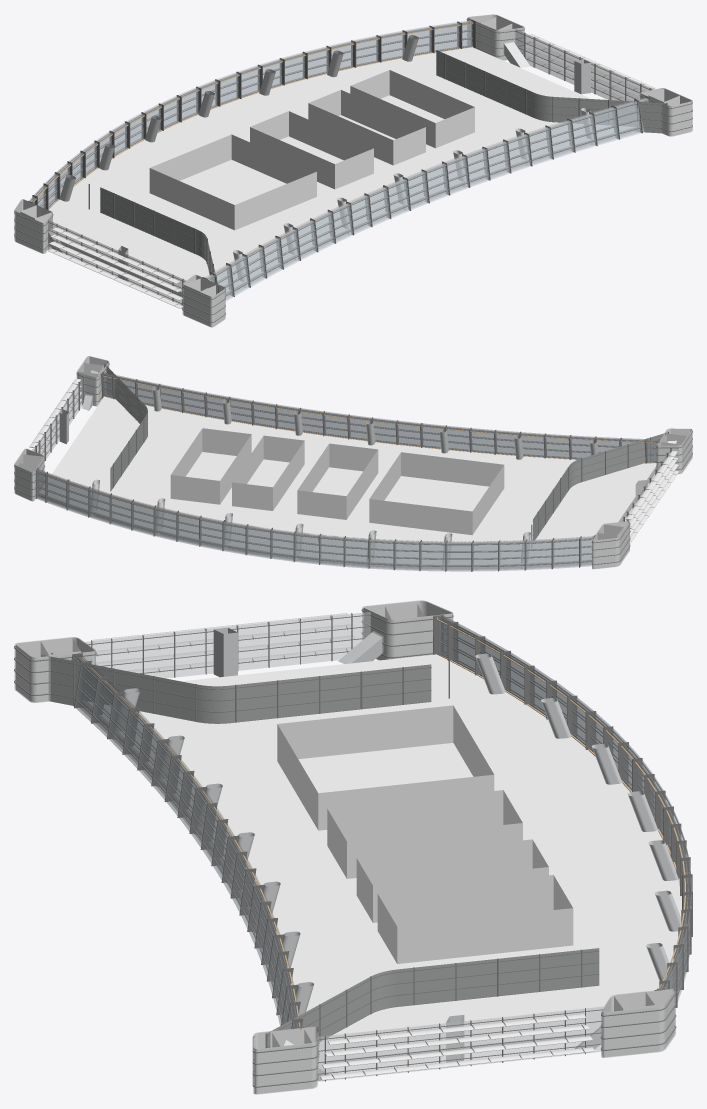
3 renders of one model, top to bottom at view 1: azimuth 30°, elevation 25°; view 2: azimuth 150°, elevation 25°; view 3: azimuth 270°, elevation 25°, orthographic. The views are drawn at different scales.
Parts seen in each view (by area): view 1: floor.045; view 2: floor.045; view 3: floor.045.
Part boxes in pixels (x1,y1,x2,y2): floor.045: [14, 14, 692, 327]; floor.045: [14, 356, 692, 571]; floor.045: [14, 600, 692, 1094].
Size of the model in its own units: 82.03 by 3.83 by 52.33.
Materials: 14 (1 with a texture image).
